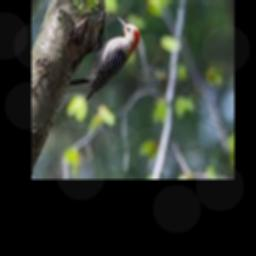Woodpecker: (67, 15, 139, 100)
